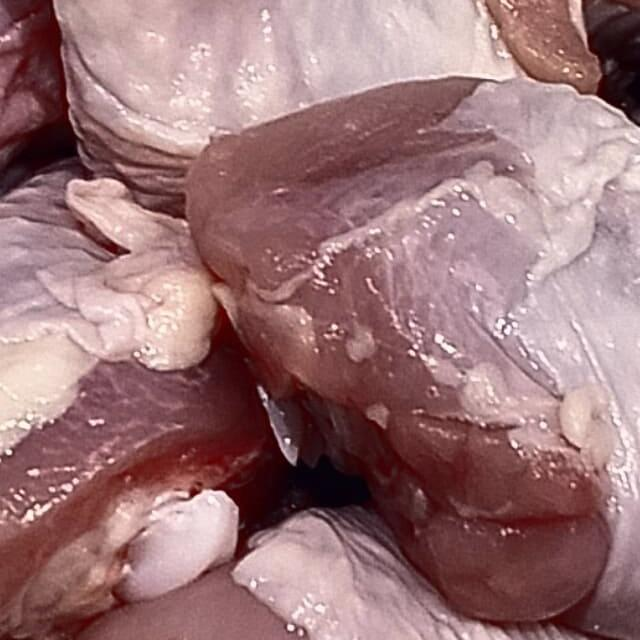chicken: (177, 3, 640, 640), (0, 0, 540, 194)
